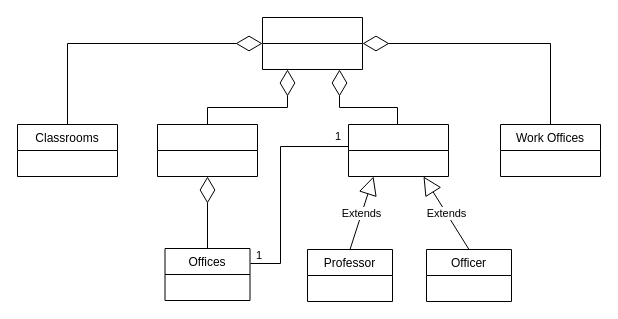
The diagram is 618 pixels wide and 319 high, and some of its shapes have lost their labels. The shapes that lost their labels are listed below. From the top down, each one's centre as x and y in pixels, then its label:
point 312,43: University
point 207,150: Departments
point 398,150: Employees
